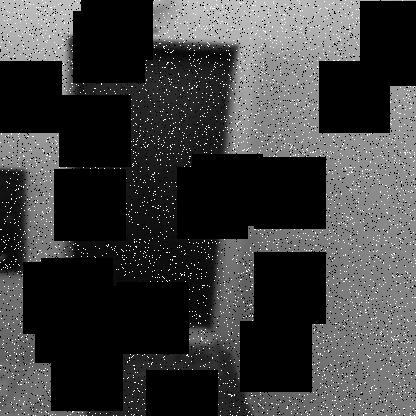Porte: (57, 35, 241, 344)
